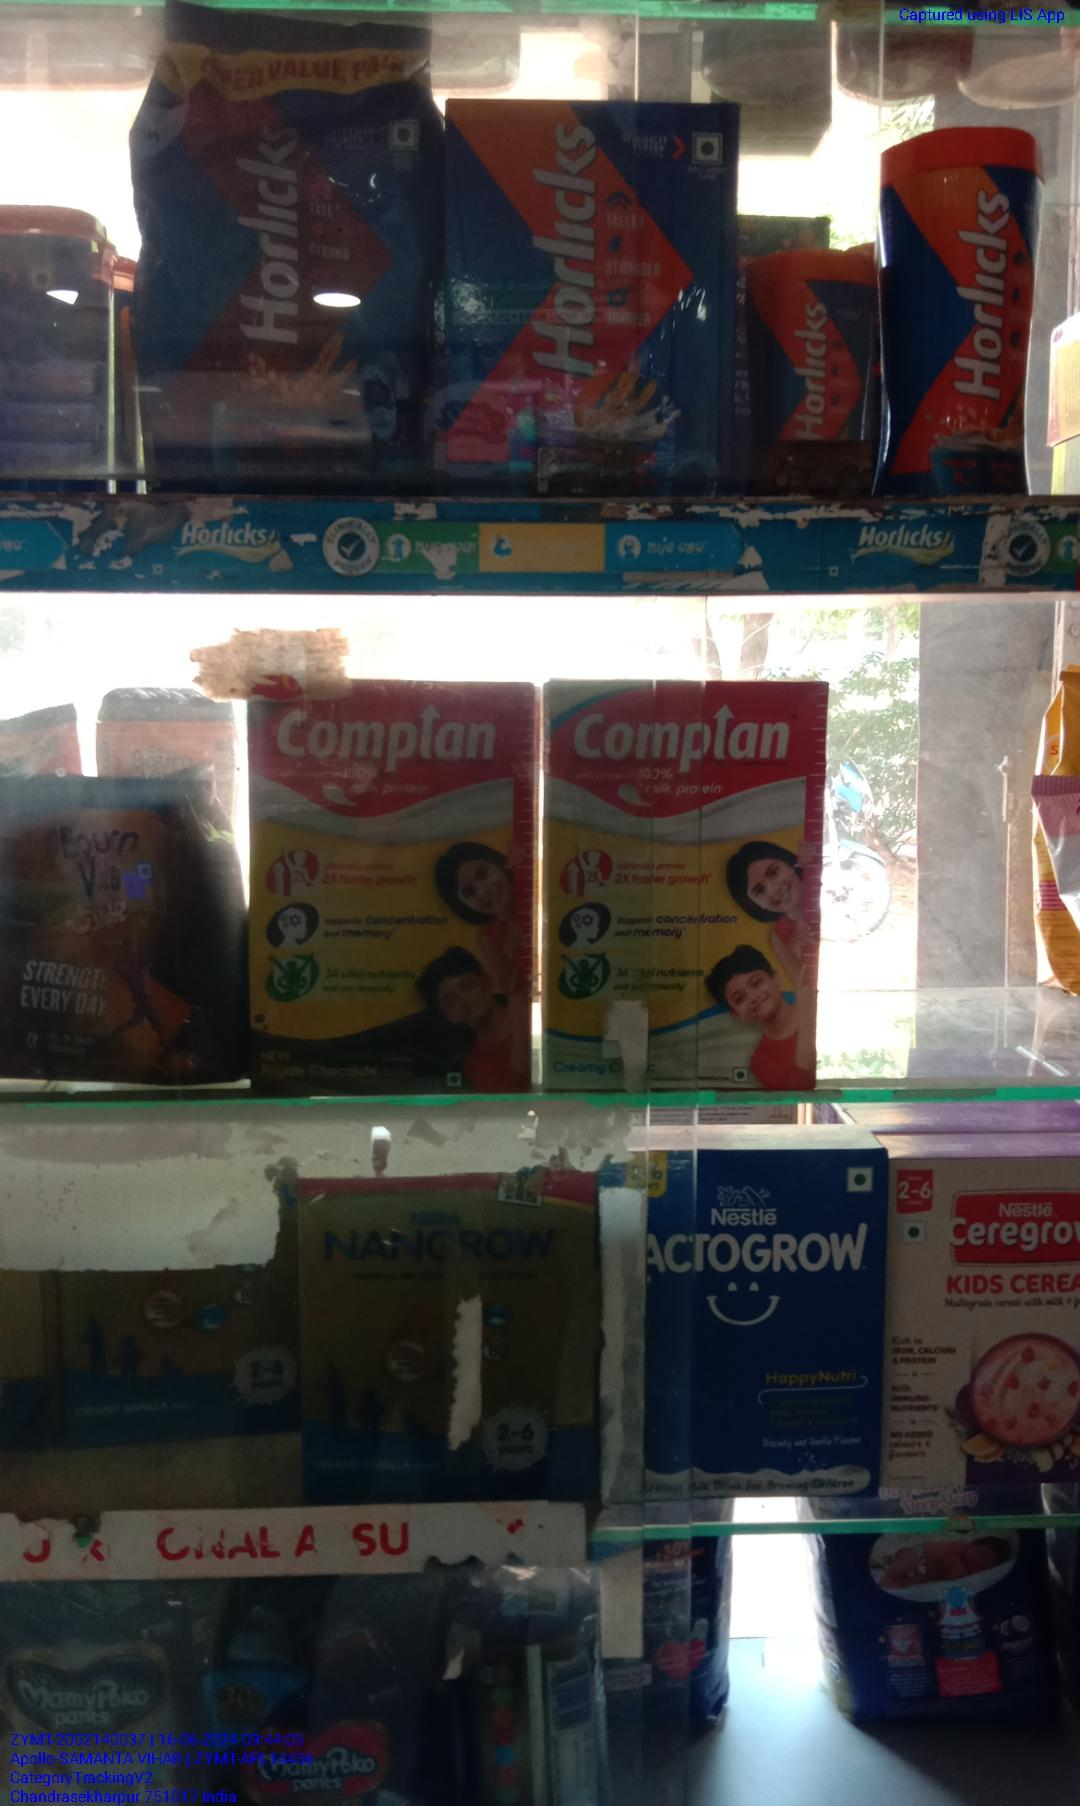BOURN_VITA_FIVE_STAR_MAGIC_500_G_POUCH: (5, 770, 230, 1086)
COMPLAN_CREAMY_CLASSIC_500_G_PACK: (546, 685, 818, 1089)
HORLICK_CHOCOLATE_750_G_POUCH: (149, 26, 424, 494)
HORLICK_CLASSIC_MALT_200_G_JAR: (755, 256, 876, 443)
HORLICK_CLASSIC_MALT_500_G_JAR: (892, 144, 1035, 505)
HORLICK_CLASSIC_MALT_500_G_PACK: (445, 100, 741, 497)
